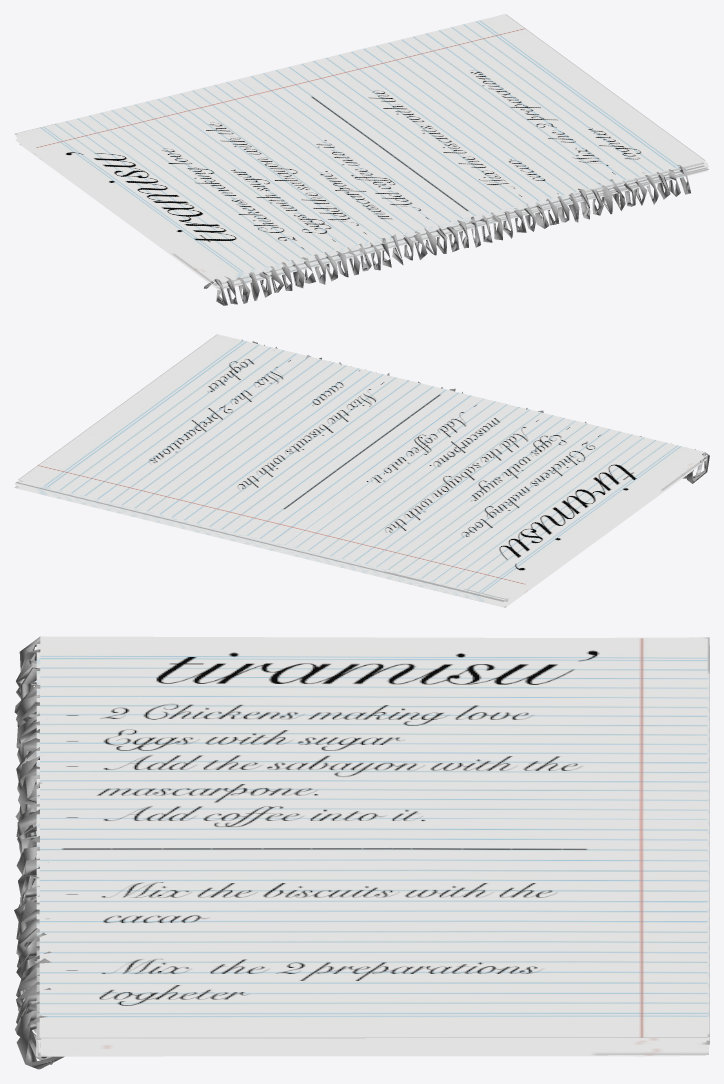
The model's file is Instructions.glb.
The picture shows the model from 3 angles, top to bottom: view 1: azimuth 30°, elevation 25°; view 2: azimuth 150°, elevation 25°; view 3: azimuth 270°, elevation 25°; orthographic projection. The views are drawn at different scales.
Visible parts, largest first — view 1: SM_notebook_papers.137; view 2: SM_notebook_papers.137; view 3: SM_notebook_papers.137.
Boxes of the visible parts, x1,y1,x2,y2 form: SM_notebook_papers.137: (14,14,709,305); SM_notebook_papers.137: (14,334,709,607); SM_notebook_papers.137: (14,636,709,1069).
Size of the model in its own units: 0.3016 by 0.0196 by 0.2187.
Materials: 1 (1 with a texture image).
